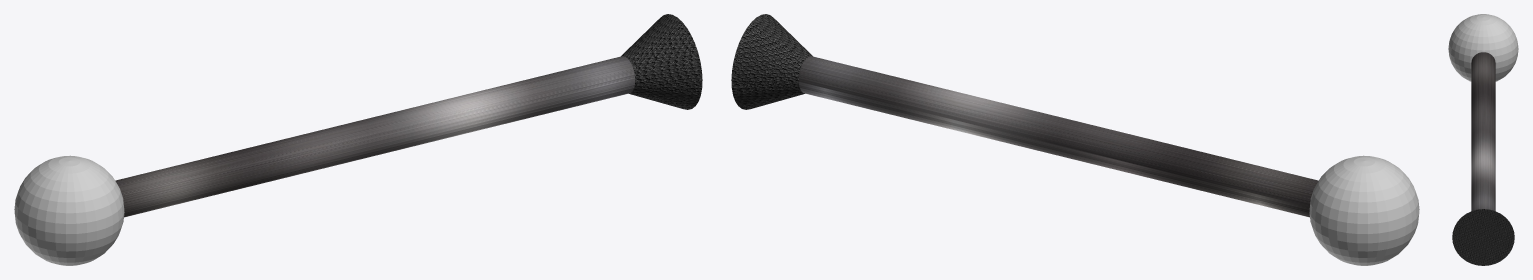
The model's file is palanca.obj.
3 views of the same model, side by side, from view 1: azimuth 30°, elevation 25°; view 2: azimuth 150°, elevation 25°; view 3: azimuth 270°, elevation 25° (orthographic). The views are drawn at different scales.
Parts seen in each view (by area): view 1: Cylinder, Sphere, Cone; view 2: Cylinder, Sphere, Cone; view 3: Cylinder, Sphere, Cone.
Boxes of the visible parts, x1,y1,x2,y2 form: Cylinder: (115, 56, 635, 217); Sphere: (14, 155, 124, 265); Cone: (621, 14, 702, 109); Cylinder: (798, 56, 1318, 217); Sphere: (1309, 155, 1419, 265); Cone: (731, 14, 812, 109); Cylinder: (1471, 52, 1495, 210); Sphere: (1448, 14, 1518, 81); Cone: (1452, 209, 1514, 265).
Size of the model in its own units: 15.41 by 2.24 by 2.24.
